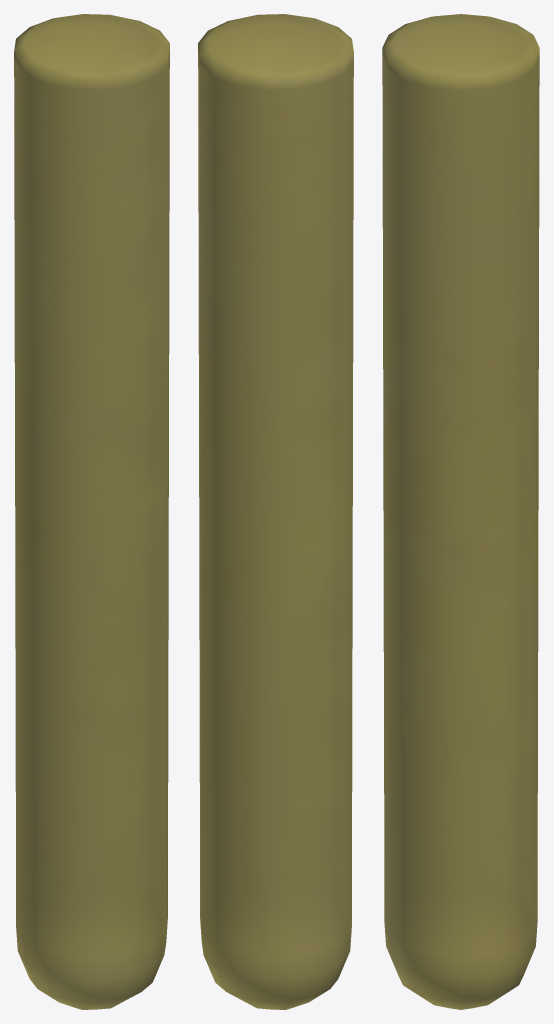
The model's file is test_tube_content_e.glb.
3 views of the same model, side by side, from view 1: azimuth 30°, elevation 25°; view 2: azimuth 150°, elevation 25°; view 3: azimuth 270°, elevation 25° (orthographic).
Visible parts, largest first — view 1: chemistry_set_test_tube_content_e.001; view 2: chemistry_set_test_tube_content_e.001; view 3: chemistry_set_test_tube_content_e.001.
Part boxes in pixels (x1,y1,x2,y2): chemistry_set_test_tube_content_e.001: (14,14,169,1009); chemistry_set_test_tube_content_e.001: (198,14,353,1009); chemistry_set_test_tube_content_e.001: (382,14,539,1009).
Size of the model in its own units: 0.0128 by 0.0858 by 0.0128.
1 material, 1 textured.
